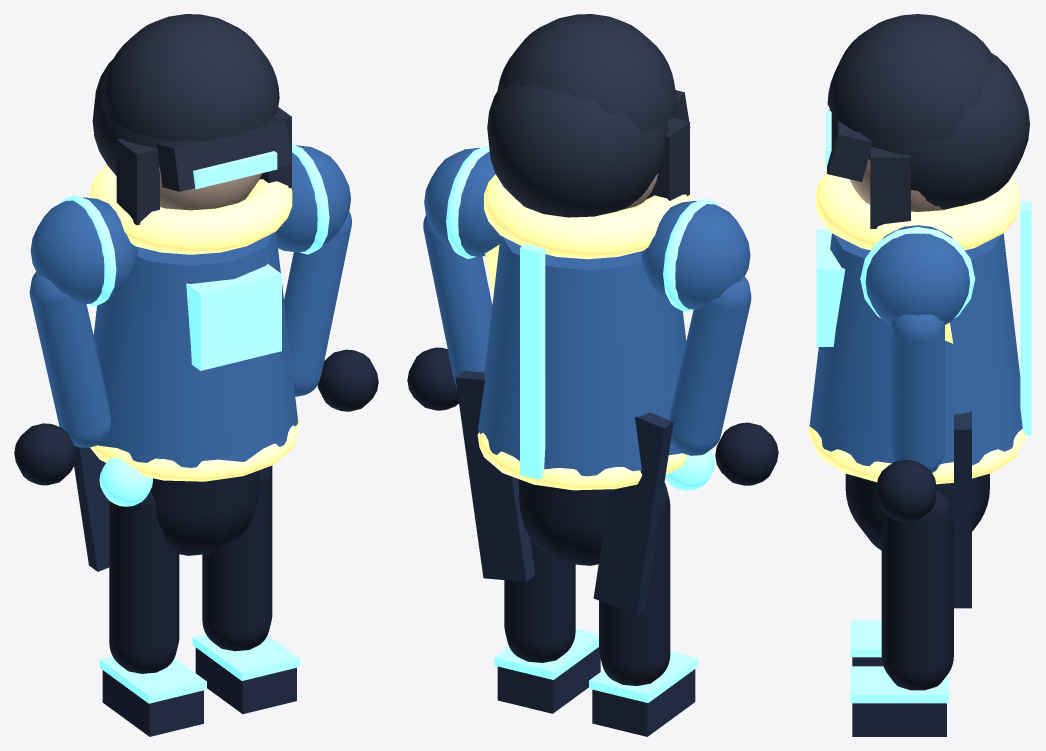
Rendered from chu.glb.
3 renders of one model, left to right at view 1: azimuth 30°, elevation 25°; view 2: azimuth 150°, elevation 25°; view 3: azimuth 270°, elevation 25°, orthographic.
Visible parts, largest first — view 1: Chu; view 2: Chu; view 3: Chu.
Part boxes in pixels (<box>): Chu: <box>14,14,378,736</box>; Chu: <box>407,14,778,736</box>; Chu: <box>807,14,1031,736</box>.
Size of the model in its own units: 1.84 by 3.32 by 0.995.
